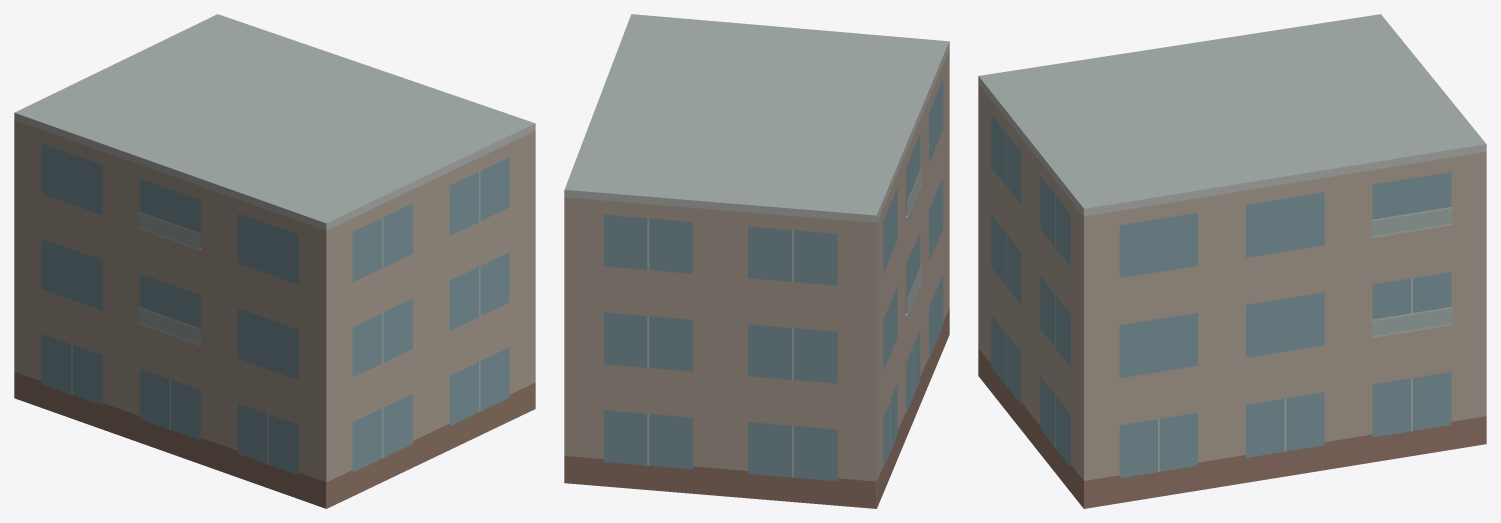
Rendered from survey-upis-32751306.glb.
3 renders of one model, left to right at view 1: azimuth 30°, elevation 25°; view 2: azimuth 150°, elevation 25°; view 3: azimuth 270°, elevation 25°, orthographic. The views are drawn at different scales.
Visible parts, largest first — view 1: survey-upis-32751306.tmp; view 2: survey-upis-32751306.tmp; view 3: survey-upis-32751306.tmp.
Part boxes in pixels (left/top/right/bottom): survey-upis-32751306.tmp: left=14, top=14, right=535, bottom=508; survey-upis-32751306.tmp: left=564, top=14, right=949, bottom=508; survey-upis-32751306.tmp: left=978, top=14, right=1486, bottom=508.
Bounding box in the file's own units: 13.25 × 9.5 × 14.59.
